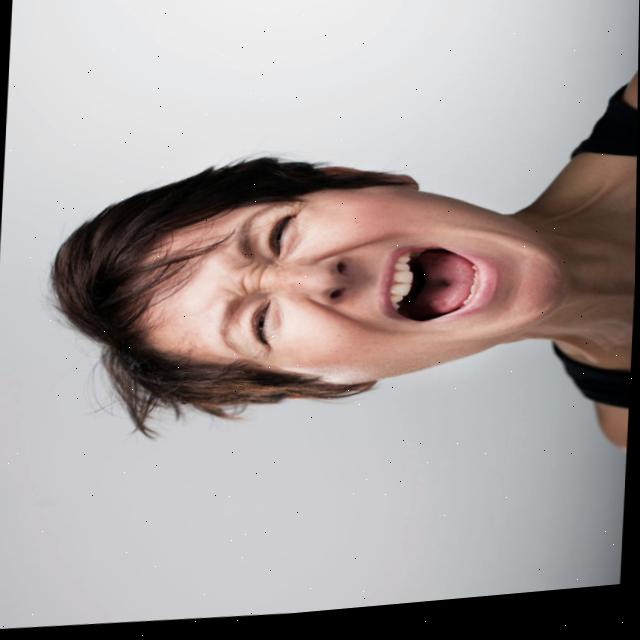Angry: (25, 109, 612, 485)
